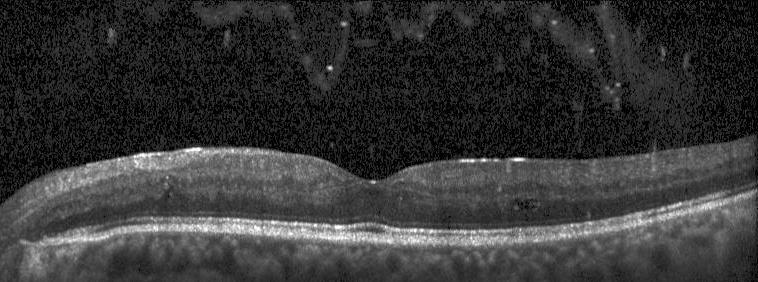intraretinal_cyst: (516, 199, 539, 209), (161, 186, 173, 200), (163, 175, 170, 184)
